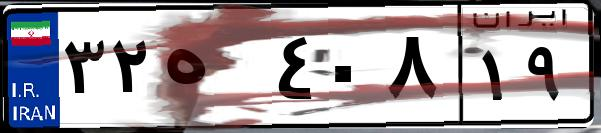0: (330, 28, 385, 110)
1: (475, 38, 525, 113)
2: (110, 28, 158, 98)
3: (57, 26, 110, 100)
4: (270, 28, 330, 110)
8: (385, 28, 445, 110)
9: (525, 38, 570, 115)
ه: (158, 20, 270, 120)
